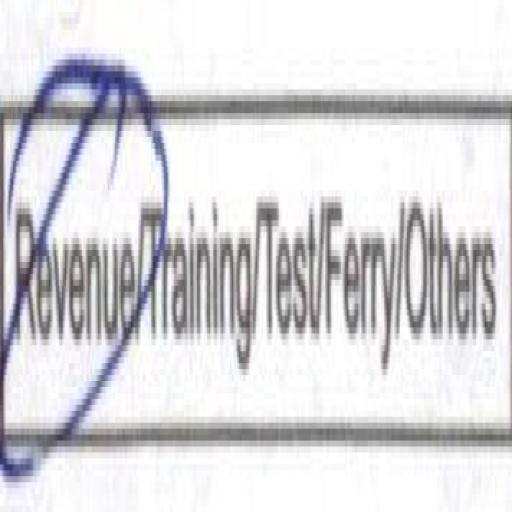check: (0, 24, 140, 464)
